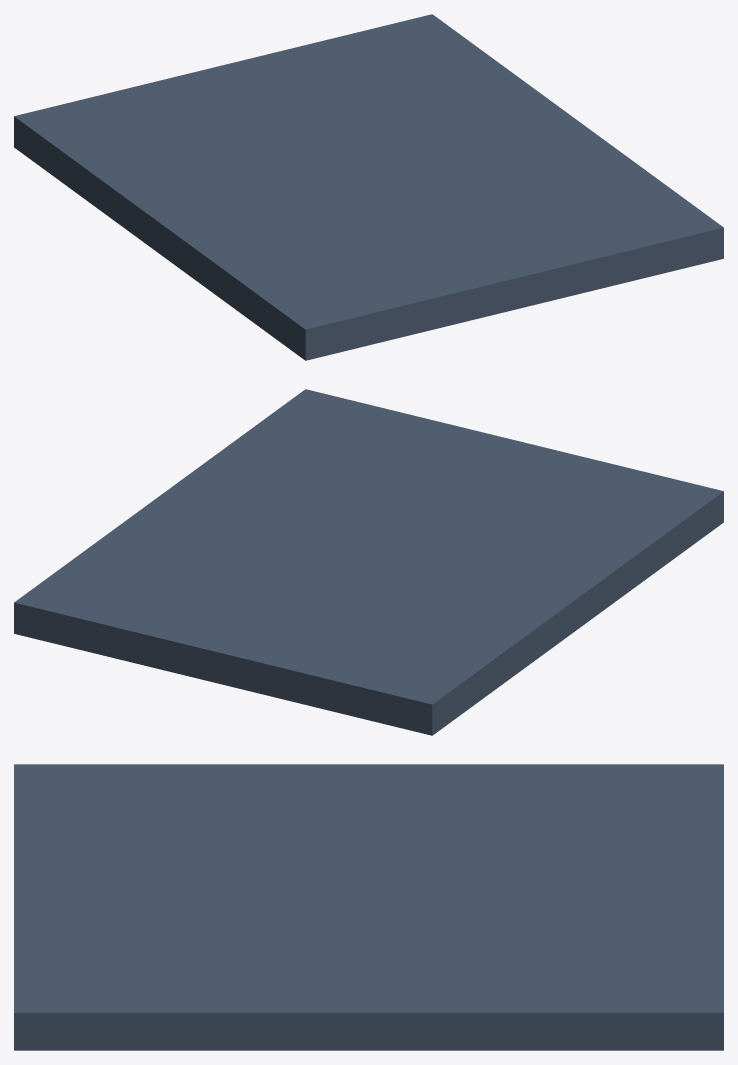
File: floor_008_u_security_floor_06.obj
The picture shows the model from 3 angles, top to bottom: view 1: azimuth 30°, elevation 25°; view 2: azimuth 150°, elevation 25°; view 3: azimuth 270°, elevation 25°; orthographic projection. The views are drawn at different scales.
Visible parts, largest first — view 1: Floor_008_u_security_floor_06; view 2: Floor_008_u_security_floor_06; view 3: Floor_008_u_security_floor_06.
Boxes of the visible parts, x1=… form: Floor_008_u_security_floor_06: x1=14, y1=14, x2=723, y2=360; Floor_008_u_security_floor_06: x1=14, y1=389, x2=723, y2=735; Floor_008_u_security_floor_06: x1=14, y1=764, x2=723, y2=1050.
Size of the model in its own units: 2.81 by 0.2 by 3.39.
